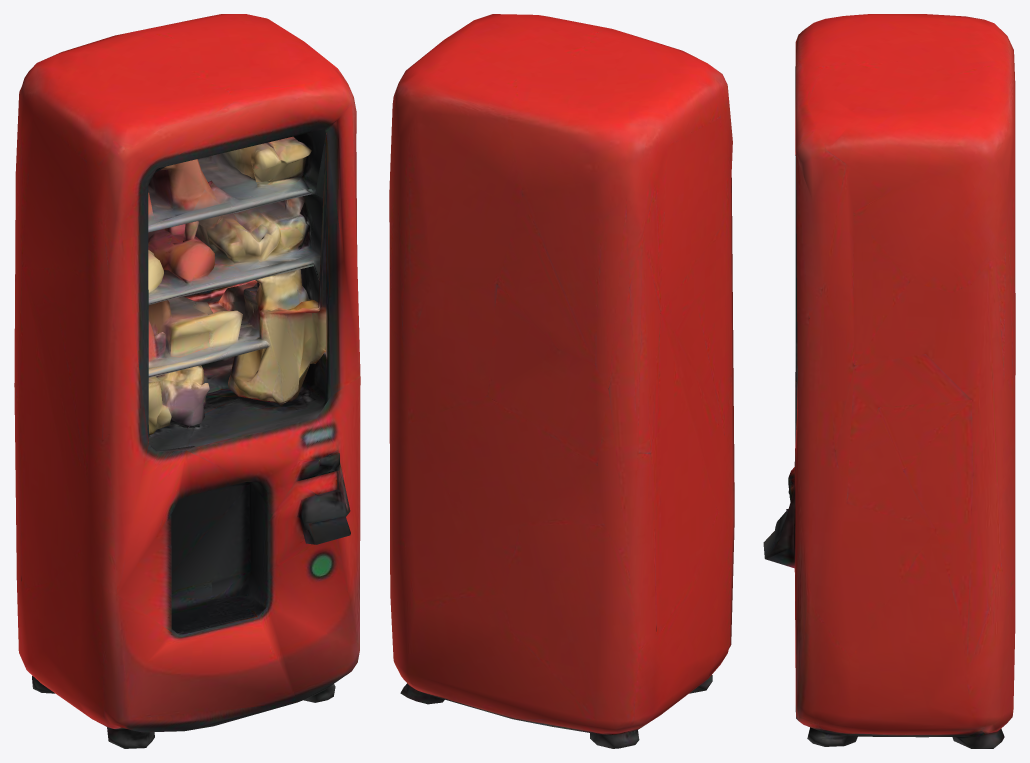
File: vending.glb
3 renders of one model, left to right at view 1: azimuth 30°, elevation 25°; view 2: azimuth 150°, elevation 25°; view 3: azimuth 270°, elevation 25°, orthographic.
Parts seen in each view (by area): view 1: Mesh_0; view 2: Mesh_0; view 3: Mesh_0.
Boxes of the visible parts, x1=… form: Mesh_0: x1=14, y1=14, x2=360, y2=748; Mesh_0: x1=389, y1=14, x2=734, y2=748; Mesh_0: x1=763, y1=14, x2=1015, y2=748.
Bounding box in the file's own units: 0.8877 × 2 × 0.7271.
Materials: 1 (1 with a texture image).
